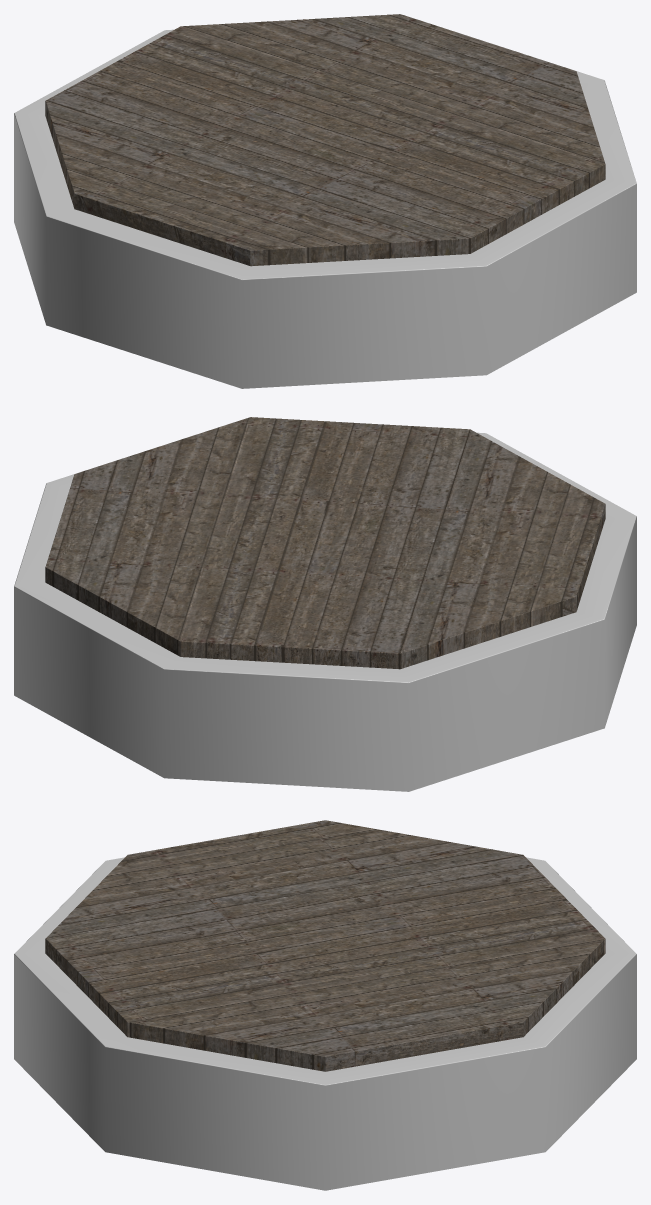
The model's file is SM_Poço.fbx.
3 renders of one model, top to bottom at view 1: azimuth 30°, elevation 25°; view 2: azimuth 150°, elevation 25°; view 3: azimuth 270°, elevation 25°, orthographic. The views are drawn at different scales.
Parts seen in each view (by area): view 1: tampa_poço, poço; view 2: tampa_poço, poço; view 3: tampa_poço, poço.
Part boxes in pixels (left/top/right/bottom): tampa_poço: left=45, top=14, right=605, bottom=266; poço: left=14, top=19, right=636, bottom=388; tampa_poço: left=45, top=417, right=605, bottom=669; poço: left=14, top=422, right=636, bottom=791; tampa_poço: left=45, top=820, right=605, bottom=1071; poço: left=14, top=857, right=636, bottom=1190.
Bounding box in the file's own units: 1790 × 383 × 1790.
